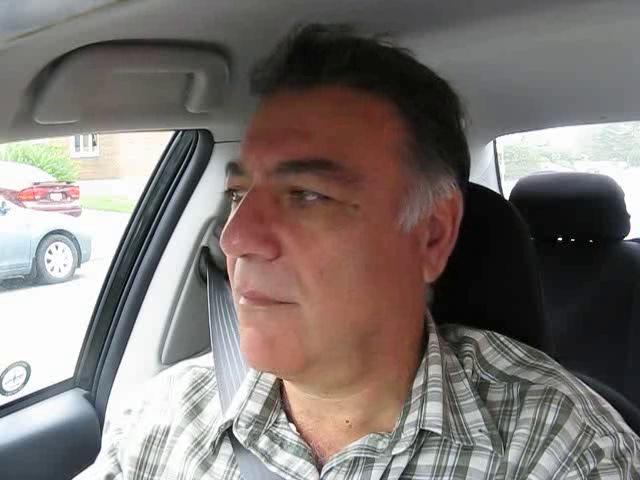close_eyeL: (274, 177, 355, 226)
no_yawn: (221, 276, 317, 323)
open_eyeL: (219, 177, 257, 210)
